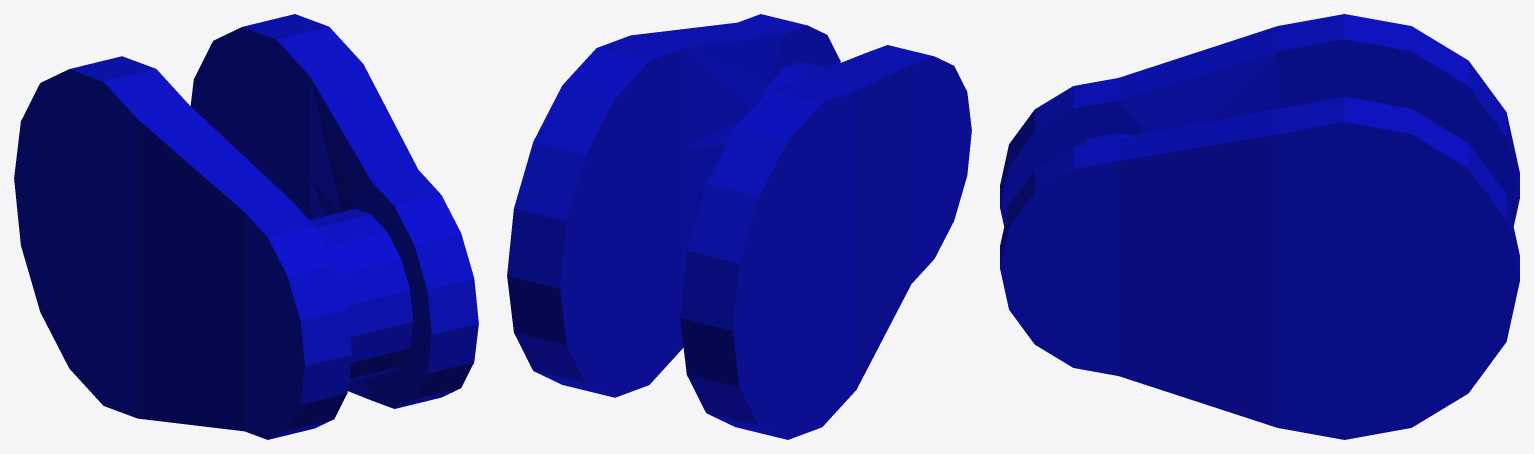
File: rotator.obj
3 renders of one model, left to right at view 1: azimuth 30°, elevation 25°; view 2: azimuth 150°, elevation 25°; view 3: azimuth 270°, elevation 25°, orthographic.
Visible parts, largest first — view 1: rotator_Cube.013; view 2: rotator_Cube.013; view 3: rotator_Cube.013.
Boxes of the visible parts, x1,y1,x2,y2 form: rotator_Cube.013: [14, 14, 478, 439]; rotator_Cube.013: [507, 14, 971, 439]; rotator_Cube.013: [1000, 14, 1519, 439].
Size of the model in its own units: 0.0566 by 0.0776 by 0.1151.
